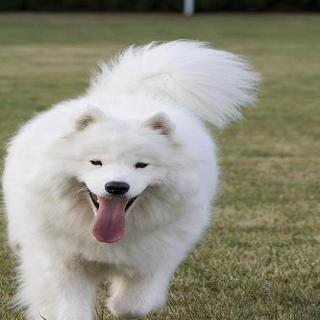dog: (58, 106, 182, 250)
nose: (104, 178, 131, 200)
